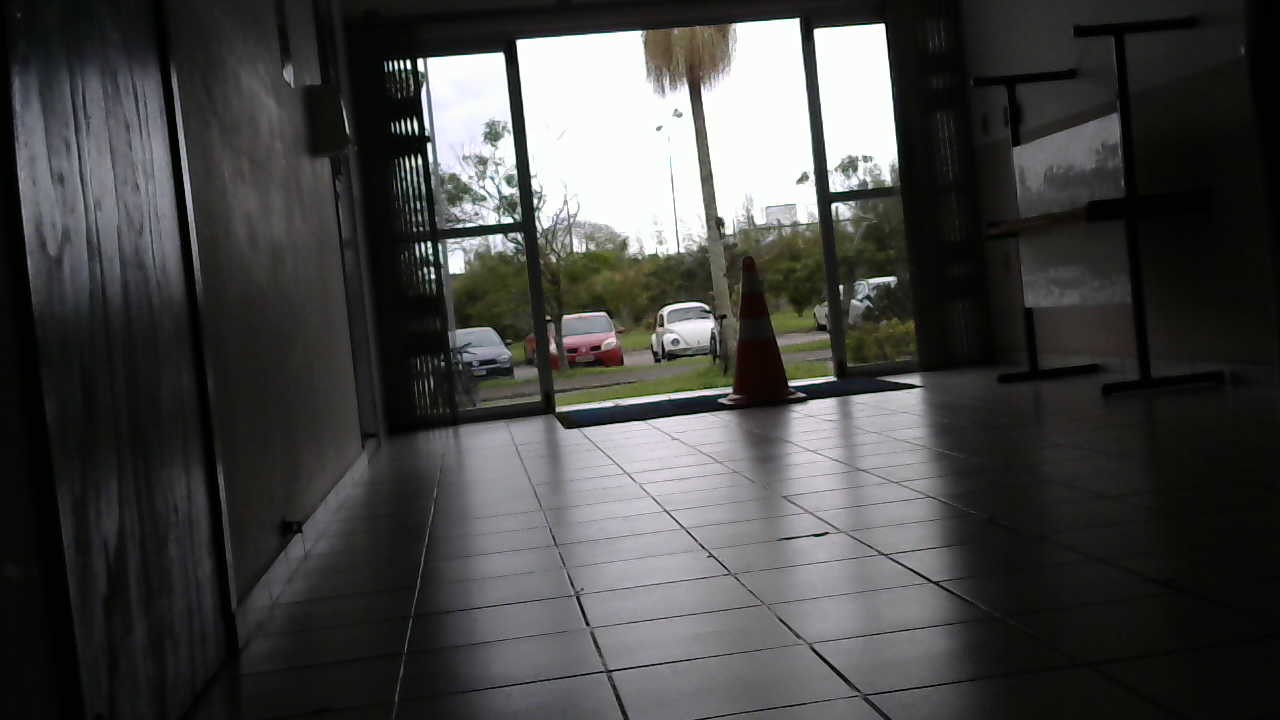cone: (717, 257, 809, 411)
